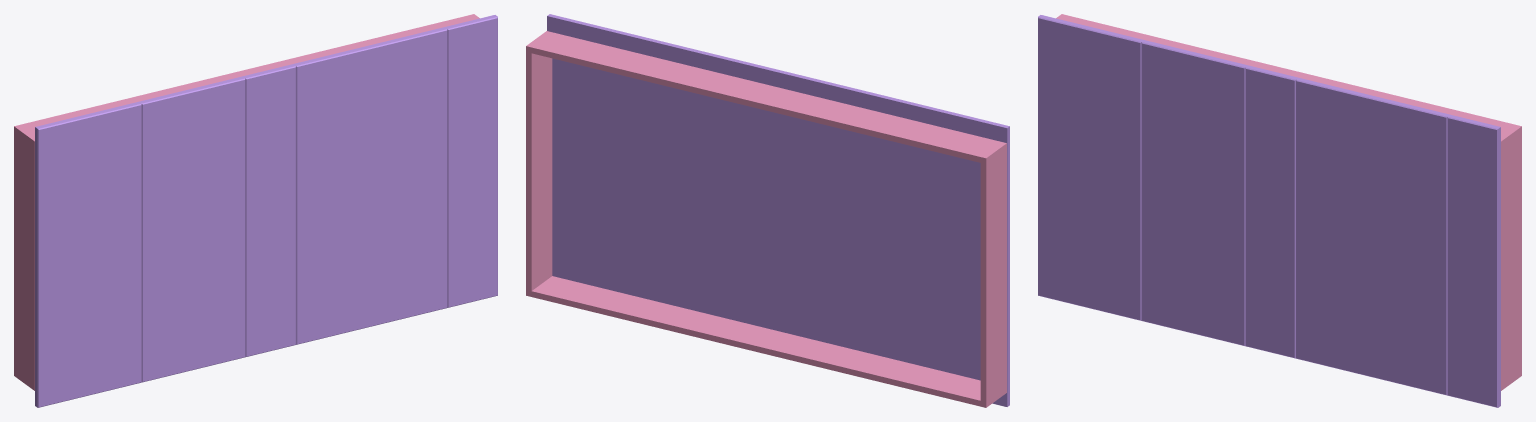
The model's file is screen.glb.
The picture shows the model from 3 angles, left to right: view 1: azimuth 30°, elevation 25°; view 2: azimuth 150°, elevation 25°; view 3: azimuth 330°, elevation 25°; orthographic projection.
Parts seen in each view (by area): view 1: shounagui; view 2: shounagui; view 3: shounagui.
Part boxes in pixels (box(x1,y1,x2,y2)): shounagui: box(14, 14, 497, 407); shounagui: box(526, 14, 1009, 407); shounagui: box(1038, 14, 1521, 407).
Bounding box in the file's own units: 1640 × 950 × 150.
